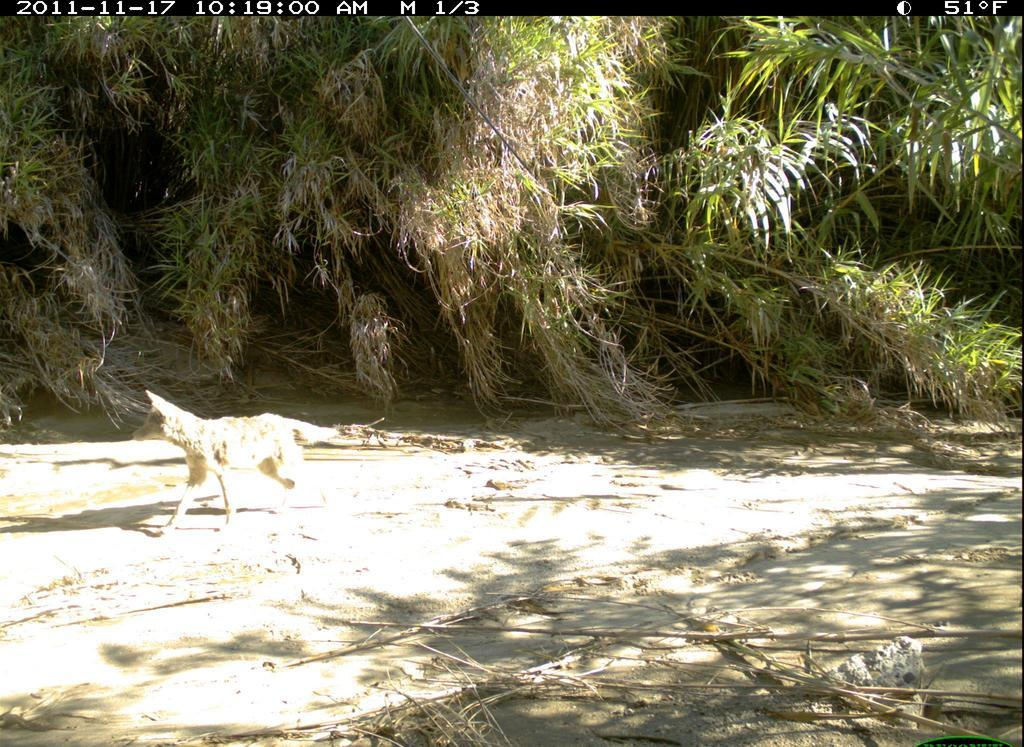coyote: (122, 388, 349, 541)
